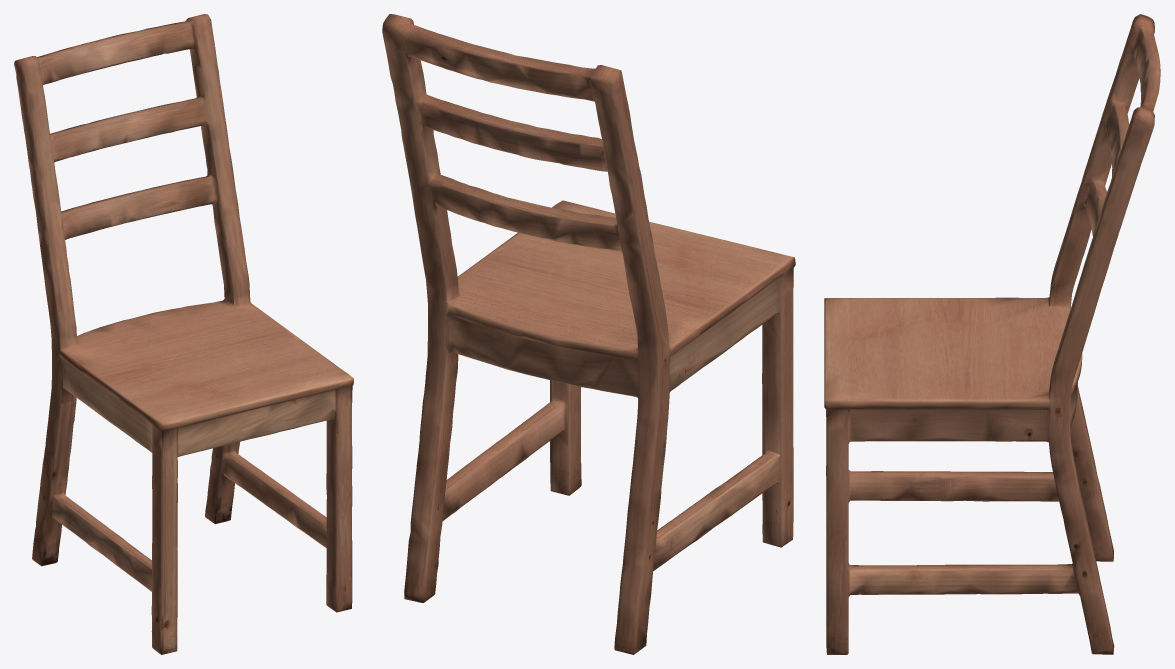
The model's file is 909ccdd1-c1ce-4178-87b8-1e001275d803.glb.
3 renders of one model, left to right at view 1: azimuth 30°, elevation 25°; view 2: azimuth 150°, elevation 25°; view 3: azimuth 270°, elevation 25°, orthographic. The views are drawn at different scales.
Bounding box in the file's own units: 0.789 × 1.91 × 1.08.
Materials: 1 (1 with a texture image).
